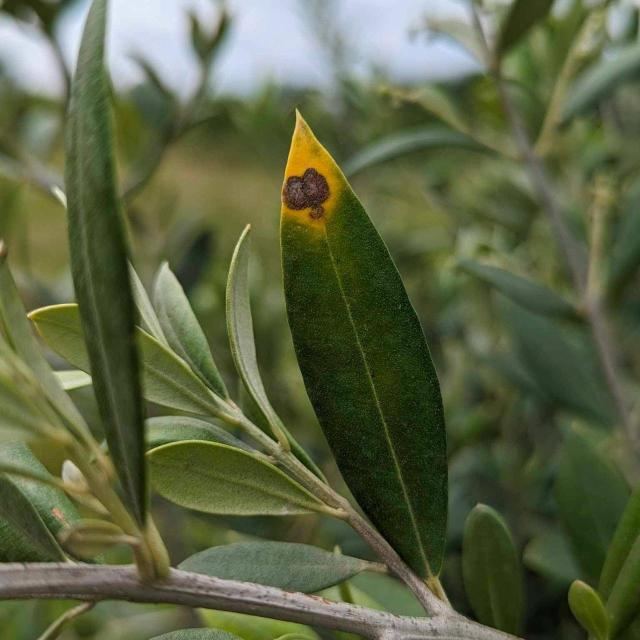Peacock Eye: (280, 111, 448, 604)
